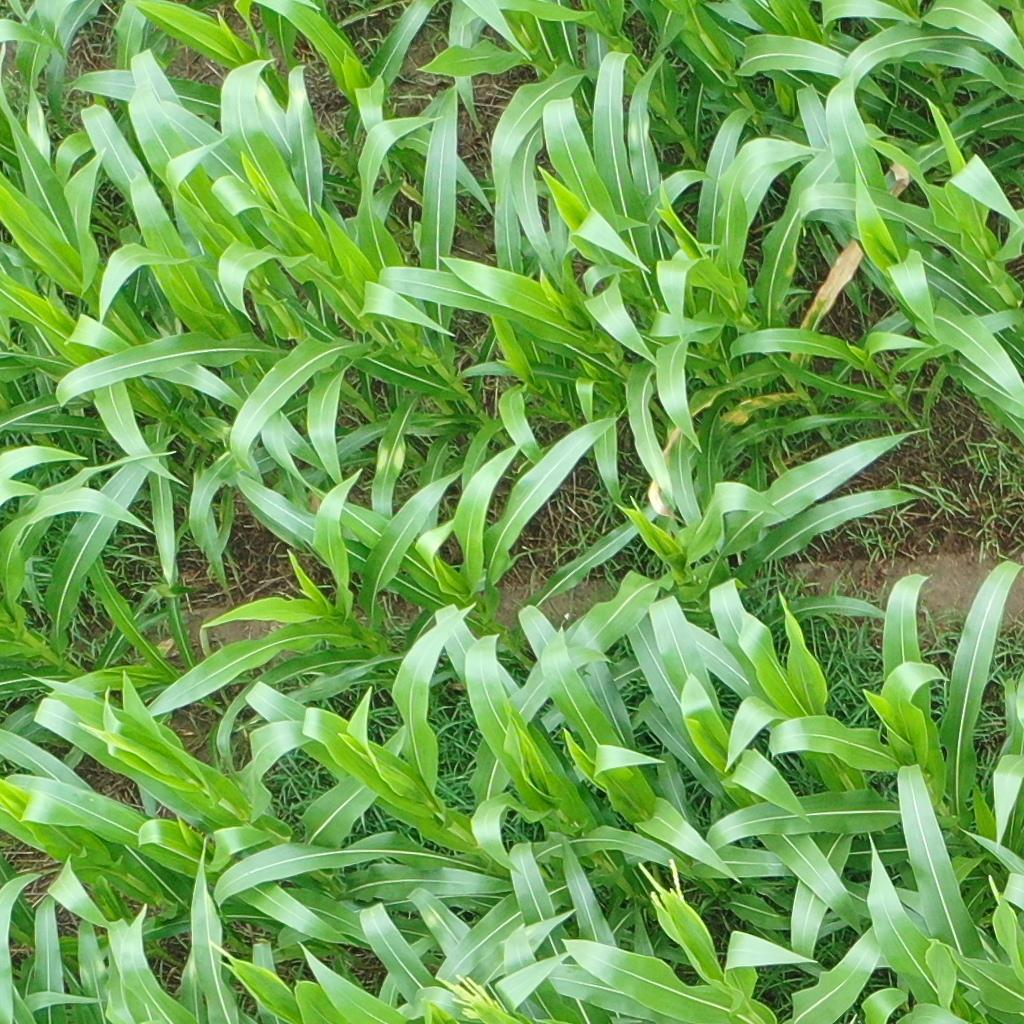Tassel: (633, 854, 698, 938), (431, 969, 510, 1020)
